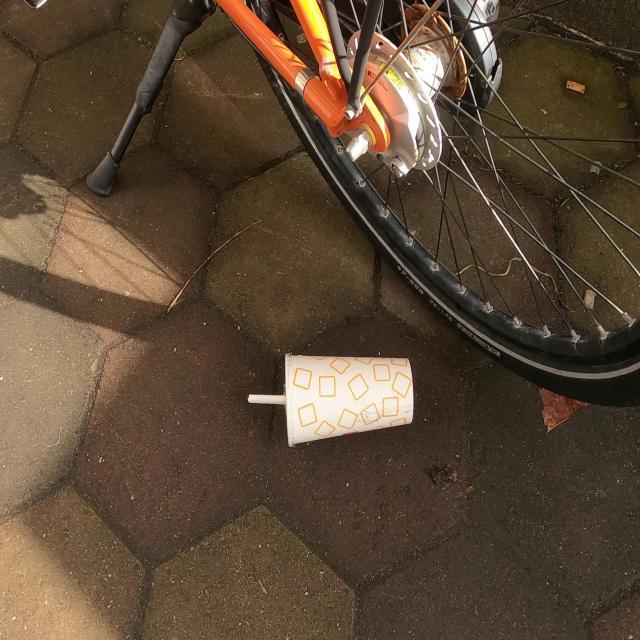Cup: (244, 348, 416, 451)
